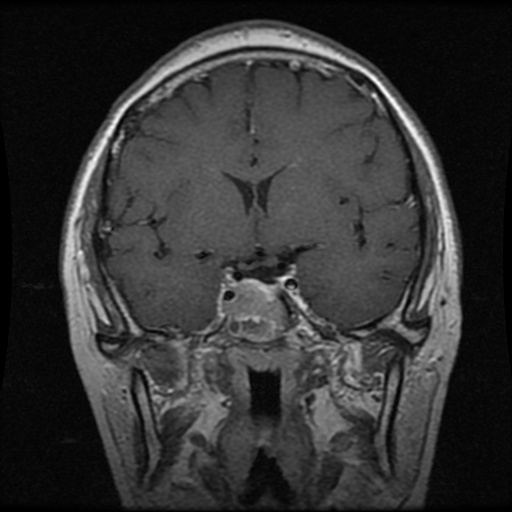pituitary: (224, 280, 284, 322)
